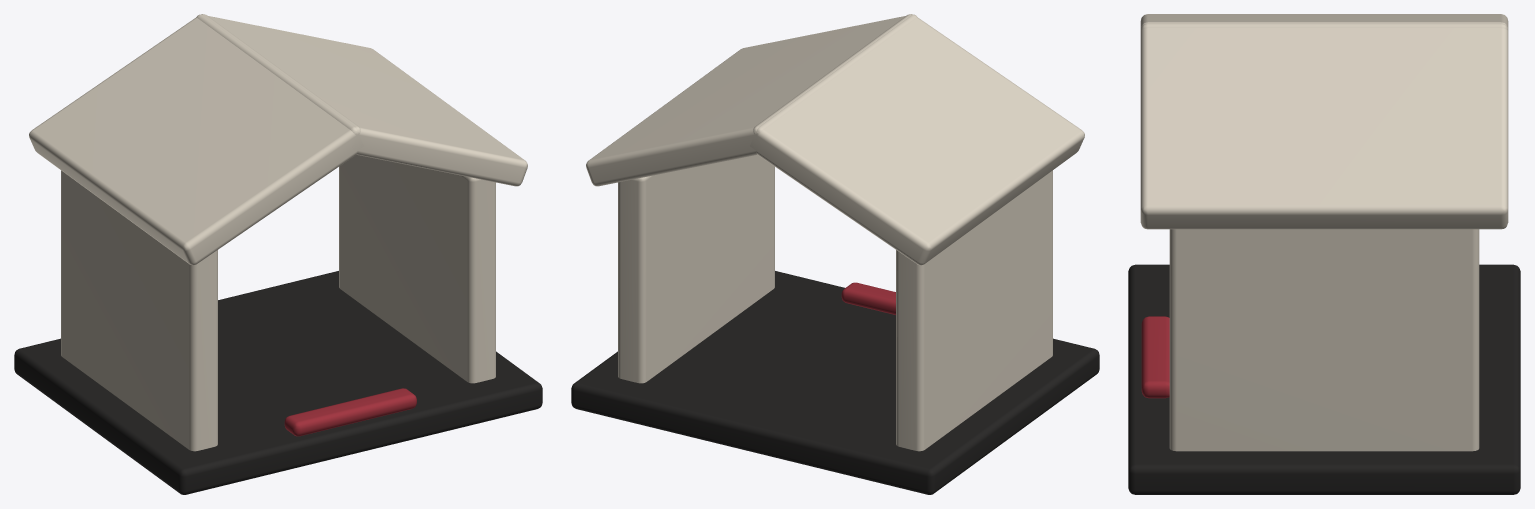
The model's file is VSV-022.glb.
The picture shows the model from 3 angles, left to right: view 1: azimuth 30°, elevation 25°; view 2: azimuth 150°, elevation 25°; view 3: azimuth 270°, elevation 25°; orthographic projection. The views are drawn at different scales.
Visible parts, largest first — view 1: VSV-022_shelter__floor, VSV-022_shelter__roof, VSV-022_shelter__wall, VSV-022_shelter__wall.001, VSV-022_shelter__roof.001, VSV-022_shelter__threshold; view 2: VSV-022_shelter__floor, VSV-022_shelter__roof, VSV-022_shelter__wall, VSV-022_shelter__wall.001, VSV-022_shelter__roof.001, VSV-022_shelter__threshold; view 3: VSV-022_shelter__roof.001, VSV-022_shelter__wall.001, VSV-022_shelter__floor, VSV-022_shelter__roof, VSV-022_shelter__threshold.
Part boxes in pixels (x1=…): VSV-022_shelter__floor: x1=14, y1=271, x2=542, y2=494; VSV-022_shelter__roof: x1=29, y1=14, x2=363, y2=265; VSV-022_shelter__wall: x1=61, y1=170, x2=217, y2=451; VSV-022_shelter__wall.001: x1=339, y1=155, x2=495, y2=383; VSV-022_shelter__roof.001: x1=196, y1=14, x2=527, y2=186; VSV-022_shelter__threshold: x1=284, y1=388, x2=416, y2=436; VSV-022_shelter__floor: x1=571, y1=271, x2=1099, y2=494; VSV-022_shelter__roof: x1=750, y1=14, x2=1084, y2=265; VSV-022_shelter__wall: x1=896, y1=170, x2=1052, y2=451; VSV-022_shelter__wall.001: x1=618, y1=155, x2=774, y2=383; VSV-022_shelter__roof.001: x1=586, y1=14, x2=917, y2=186; VSV-022_shelter__threshold: x1=841, y1=282, x2=895, y2=314; VSV-022_shelter__roof.001: x1=1140, y1=22, x2=1508, y2=229; VSV-022_shelter__wall.001: x1=1169, y1=229, x2=1479, y2=451; VSV-022_shelter__floor: x1=1128, y1=264, x2=1520, y2=494; VSV-022_shelter__roof: x1=1140, y1=14, x2=1508, y2=30; VSV-022_shelter__threshold: x1=1141, y1=316, x2=1169, y2=398.
Bounding box in the file's own units: 2.35 × 1.99 × 1.9.
